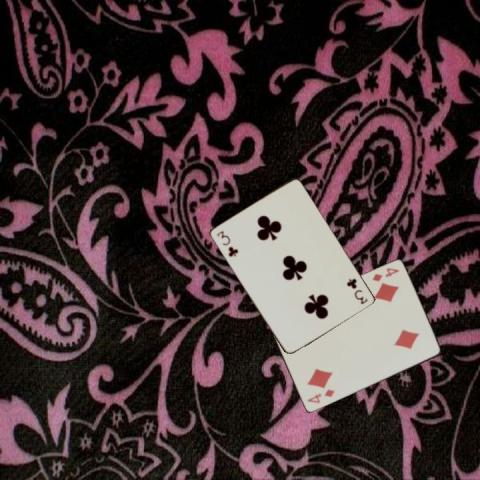3c: (214, 227, 240, 258), (344, 276, 369, 306)
4d: (304, 386, 336, 404), (368, 266, 400, 284)
